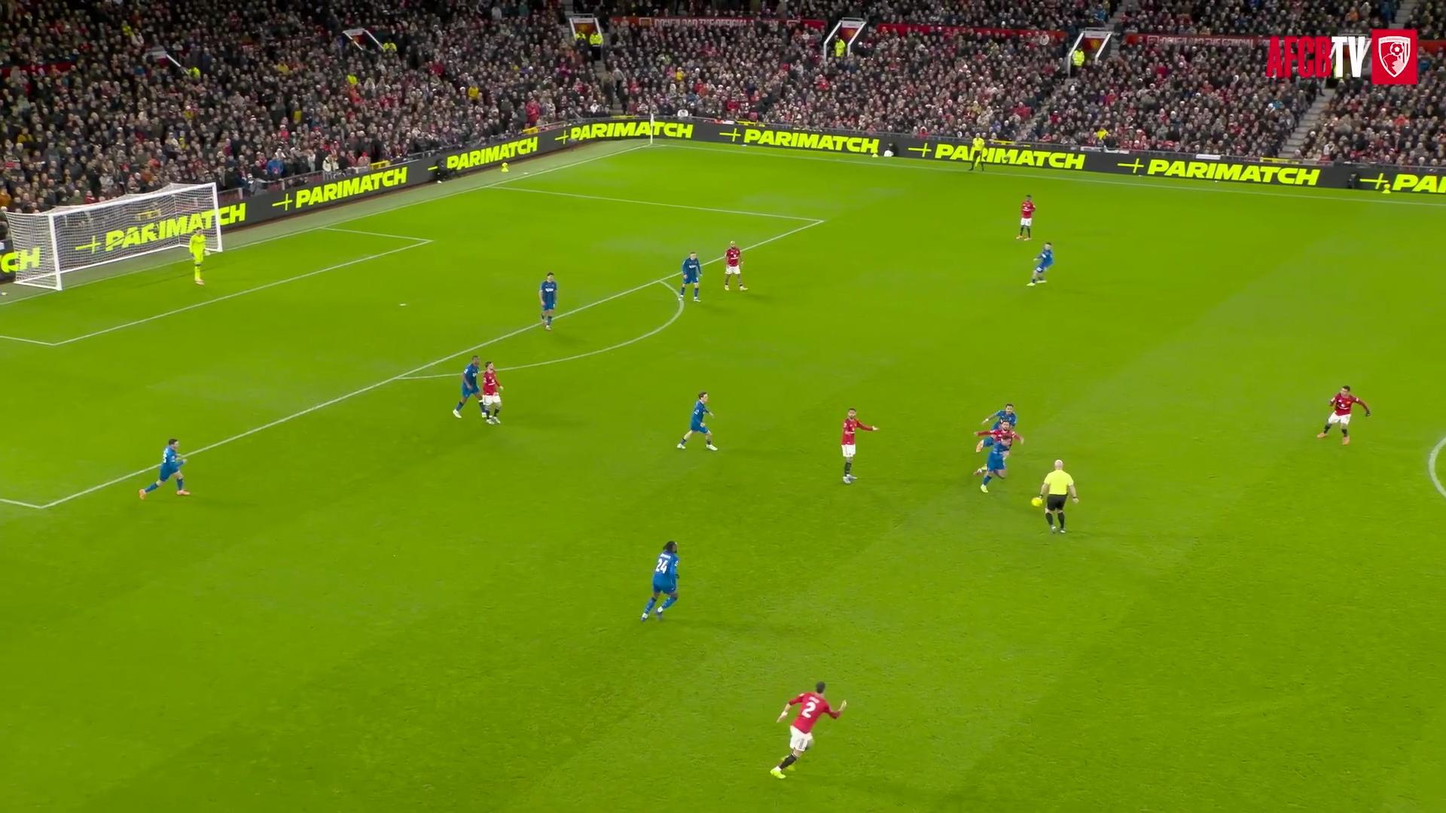football: (1029, 490, 1046, 514)
player: (770, 681, 845, 778), (973, 427, 1021, 492), (641, 540, 679, 621), (139, 438, 189, 499), (1318, 386, 1370, 444), (841, 408, 878, 483), (677, 391, 717, 449), (453, 355, 480, 418), (975, 425, 1023, 457), (480, 361, 502, 424), (1028, 242, 1054, 285), (538, 273, 557, 330), (679, 251, 700, 300), (725, 242, 746, 291), (188, 230, 206, 285), (981, 403, 1017, 429), (1017, 194, 1035, 240)
referee: (1040, 460, 1078, 532), (971, 135, 986, 170)
